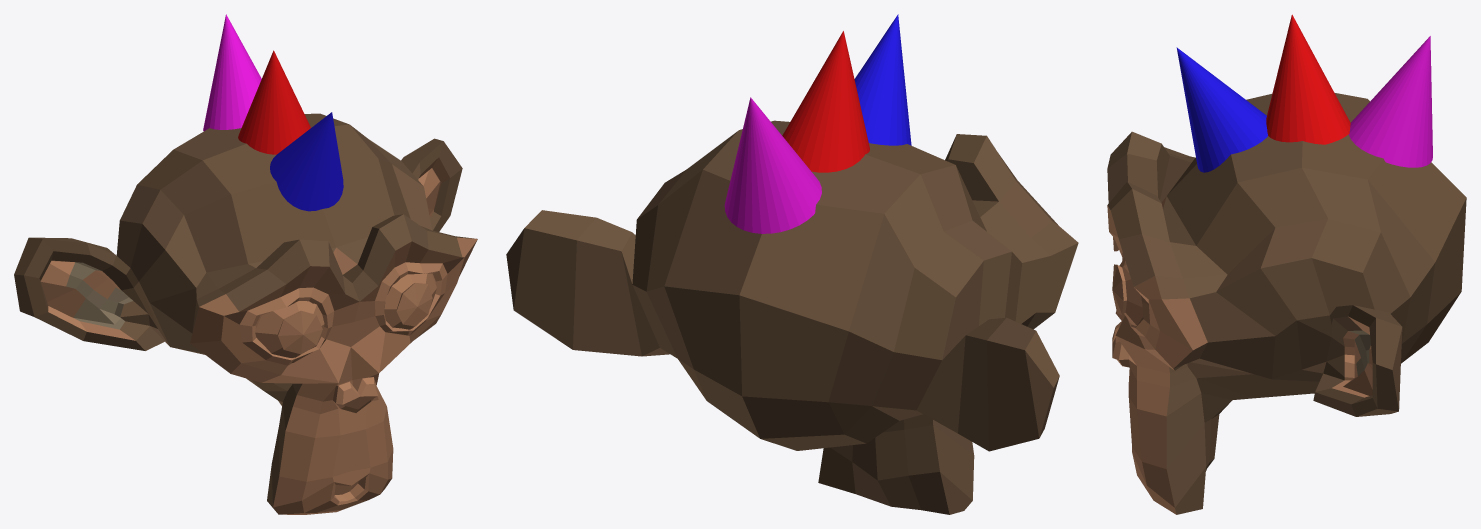
Rendered from bruteMonke.fbx.
The picture shows the model from 3 angles, left to right: view 1: azimuth 30°, elevation 25°; view 2: azimuth 150°, elevation 25°; view 3: azimuth 270°, elevation 25°; orthographic projection. The views are drawn at different scales.
Parts seen in each view (by area): view 1: Bruzanne; view 2: Bruzanne; view 3: Bruzanne.
Boxes of the visible parts, left/top/right/bottom form: Bruzanne: left=14, top=14, right=477, bottom=514; Bruzanne: left=506, top=14, right=1078, bottom=514; Bruzanne: left=1107, top=14, right=1466, bottom=514.
Bounding box in the file's own units: 273 × 249 × 170.
